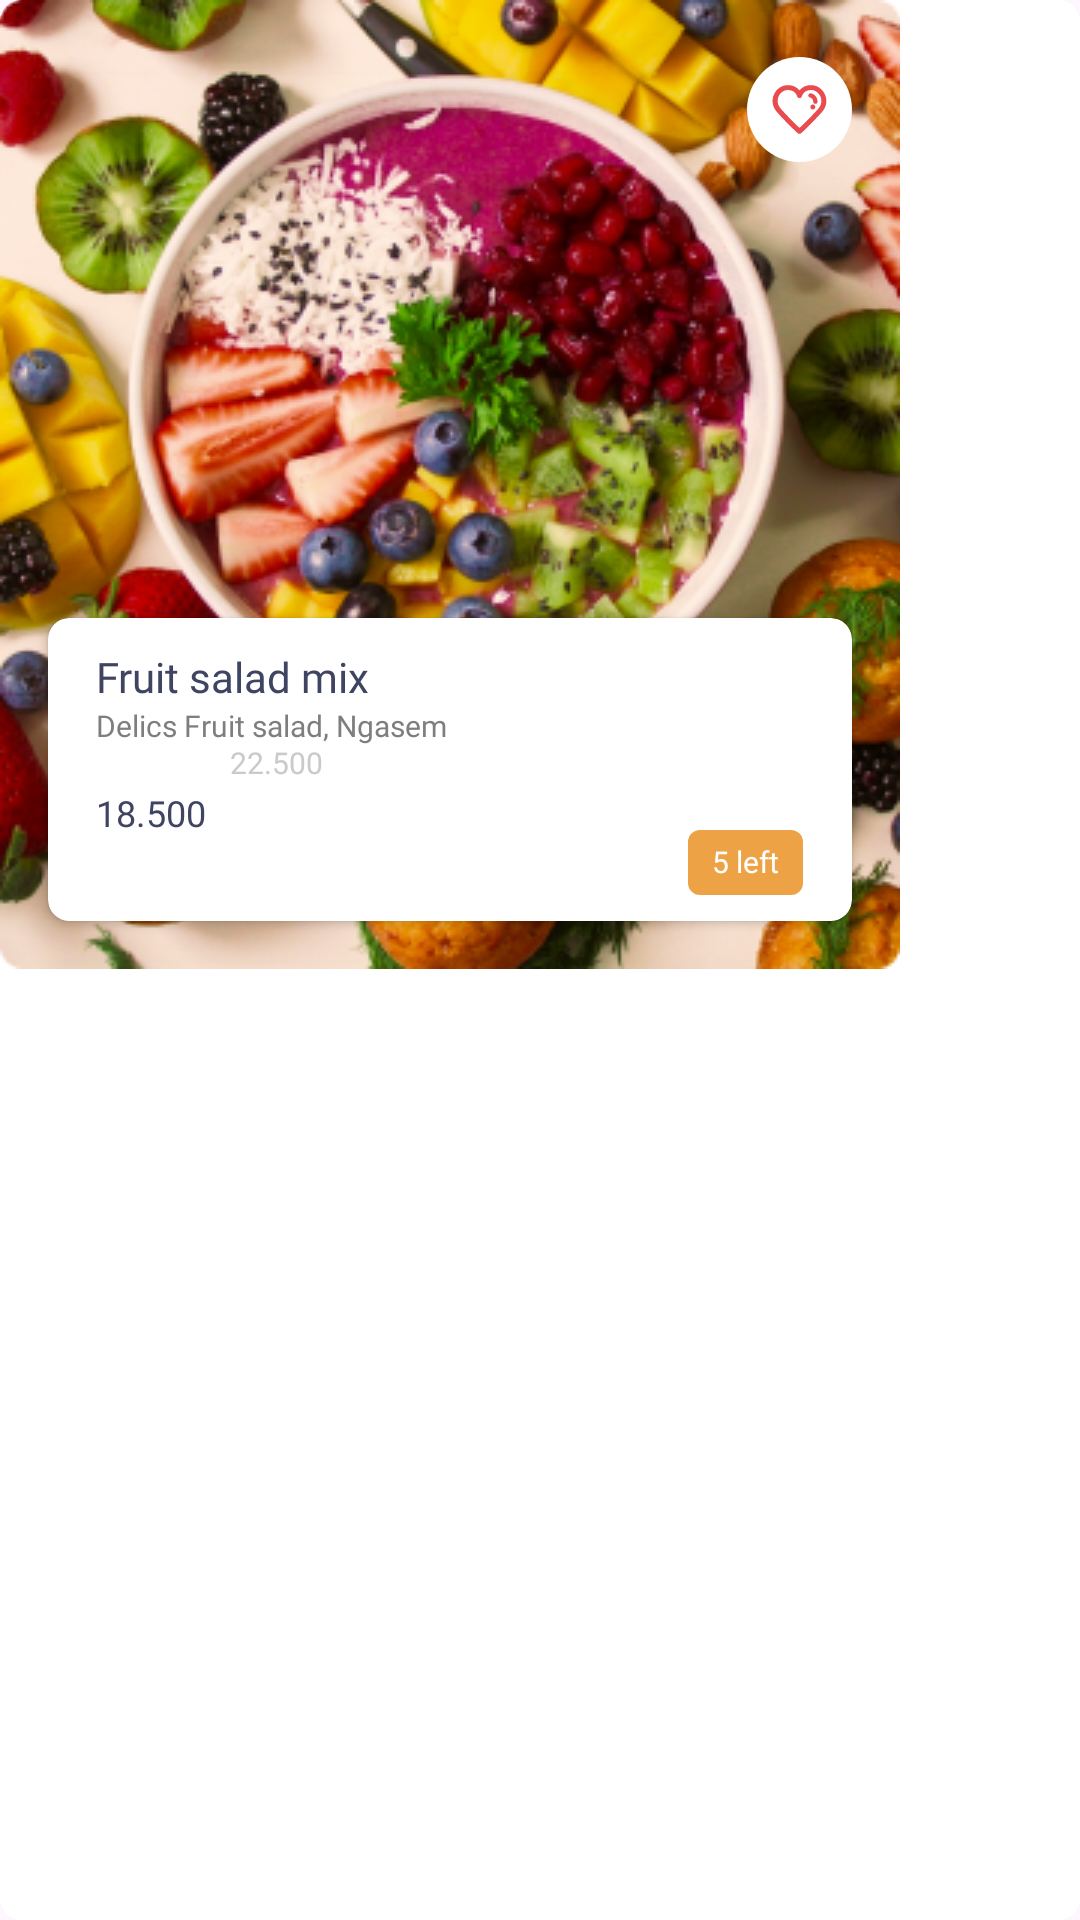

Where to tap for icons on this 1080w x 1920h app screen, as [x,y]:
heart favourite like: [799,109]
